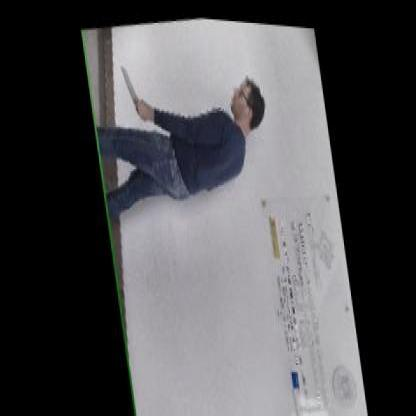knife: (116, 52, 146, 123)
